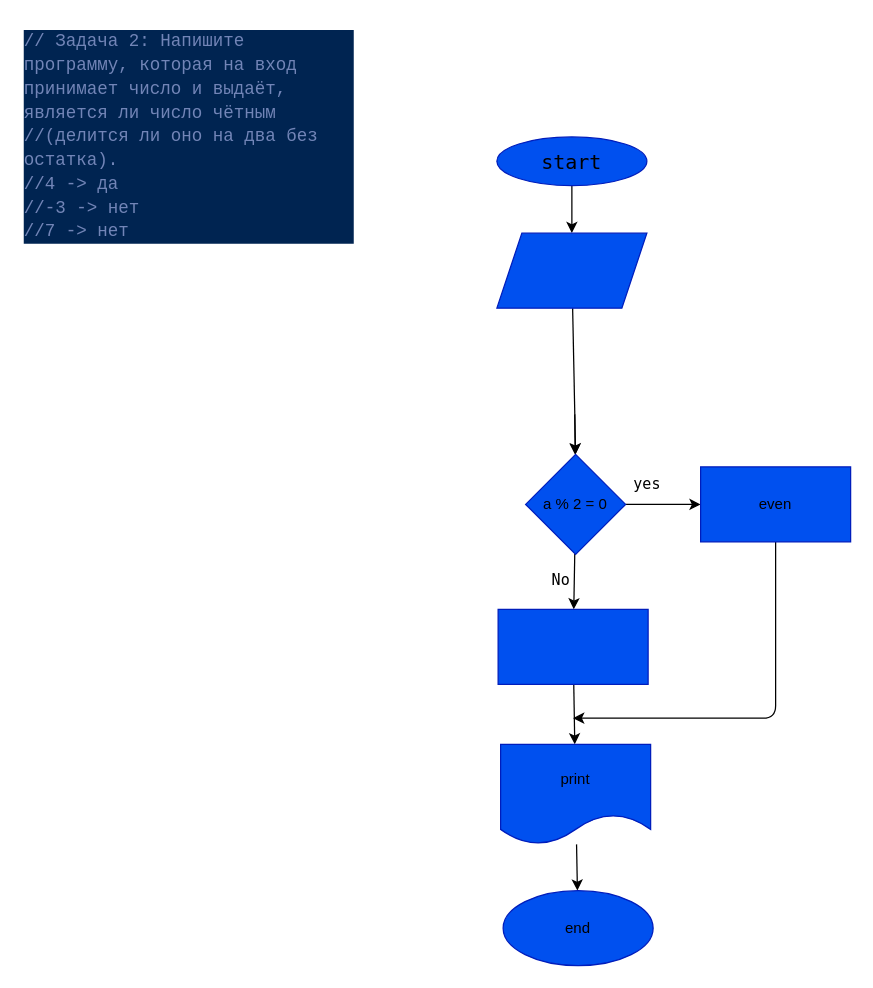
Some shapes in this 873 by 988 pixel diagram are drawn without their labels. The box of each missing label's shape, as (x1, y1, x2, y2) in pixels:
a = 4: (496, 232, 647, 308)
Odd: (497, 608, 648, 684)
